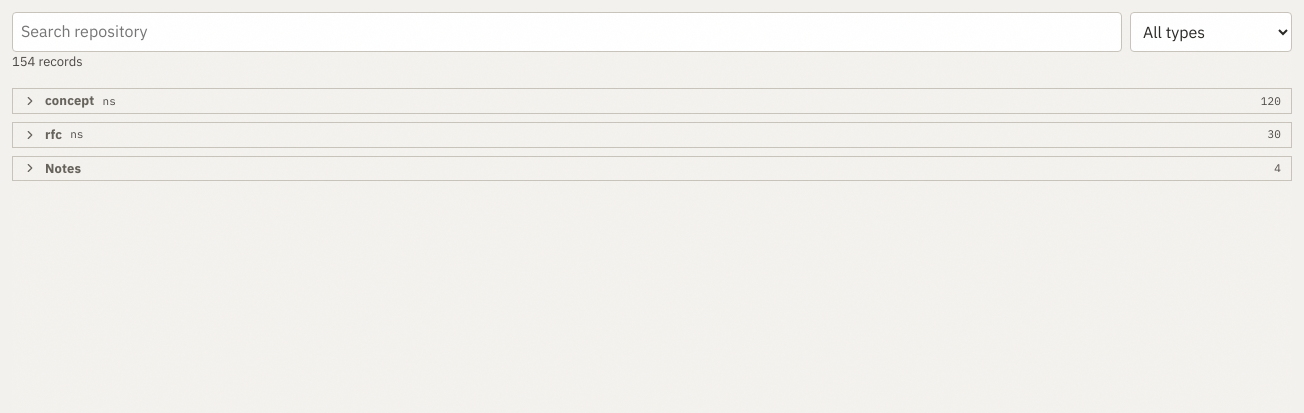
Test: RecordsExplorer › reaches notes through the core's tier filter
The image size is (1304, 413).
Click the button "Notes 4".
click(63, 168)  # box x1=12 y1=156 x2=1292 y2=181
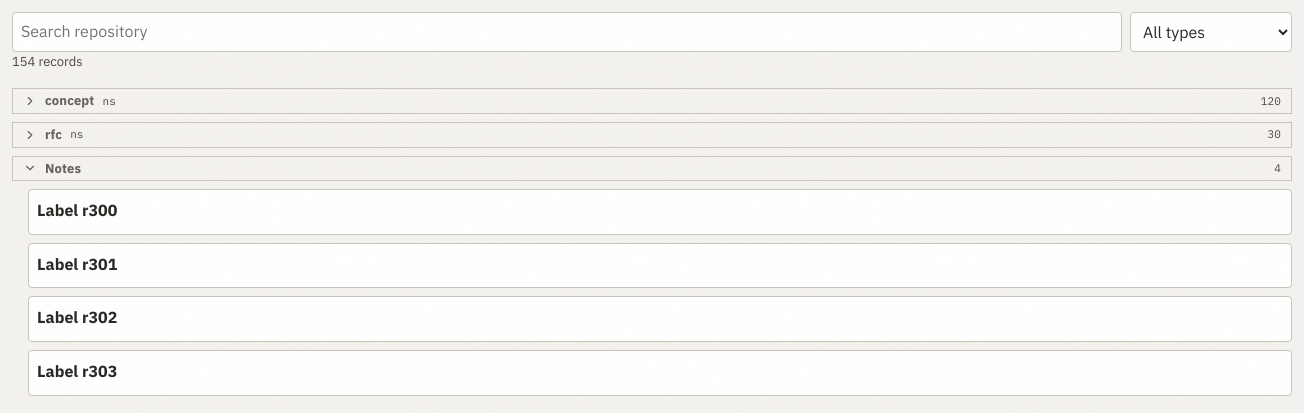
Expected: the number of buttons with test id "record-row" is 4, x1=28 y1=189 x2=1292 y2=235; x1=28 y1=243 x2=1292 y2=288; x1=28 y1=296 x2=1292 y2=342; x1=28 y1=350 x2=1292 y2=396
